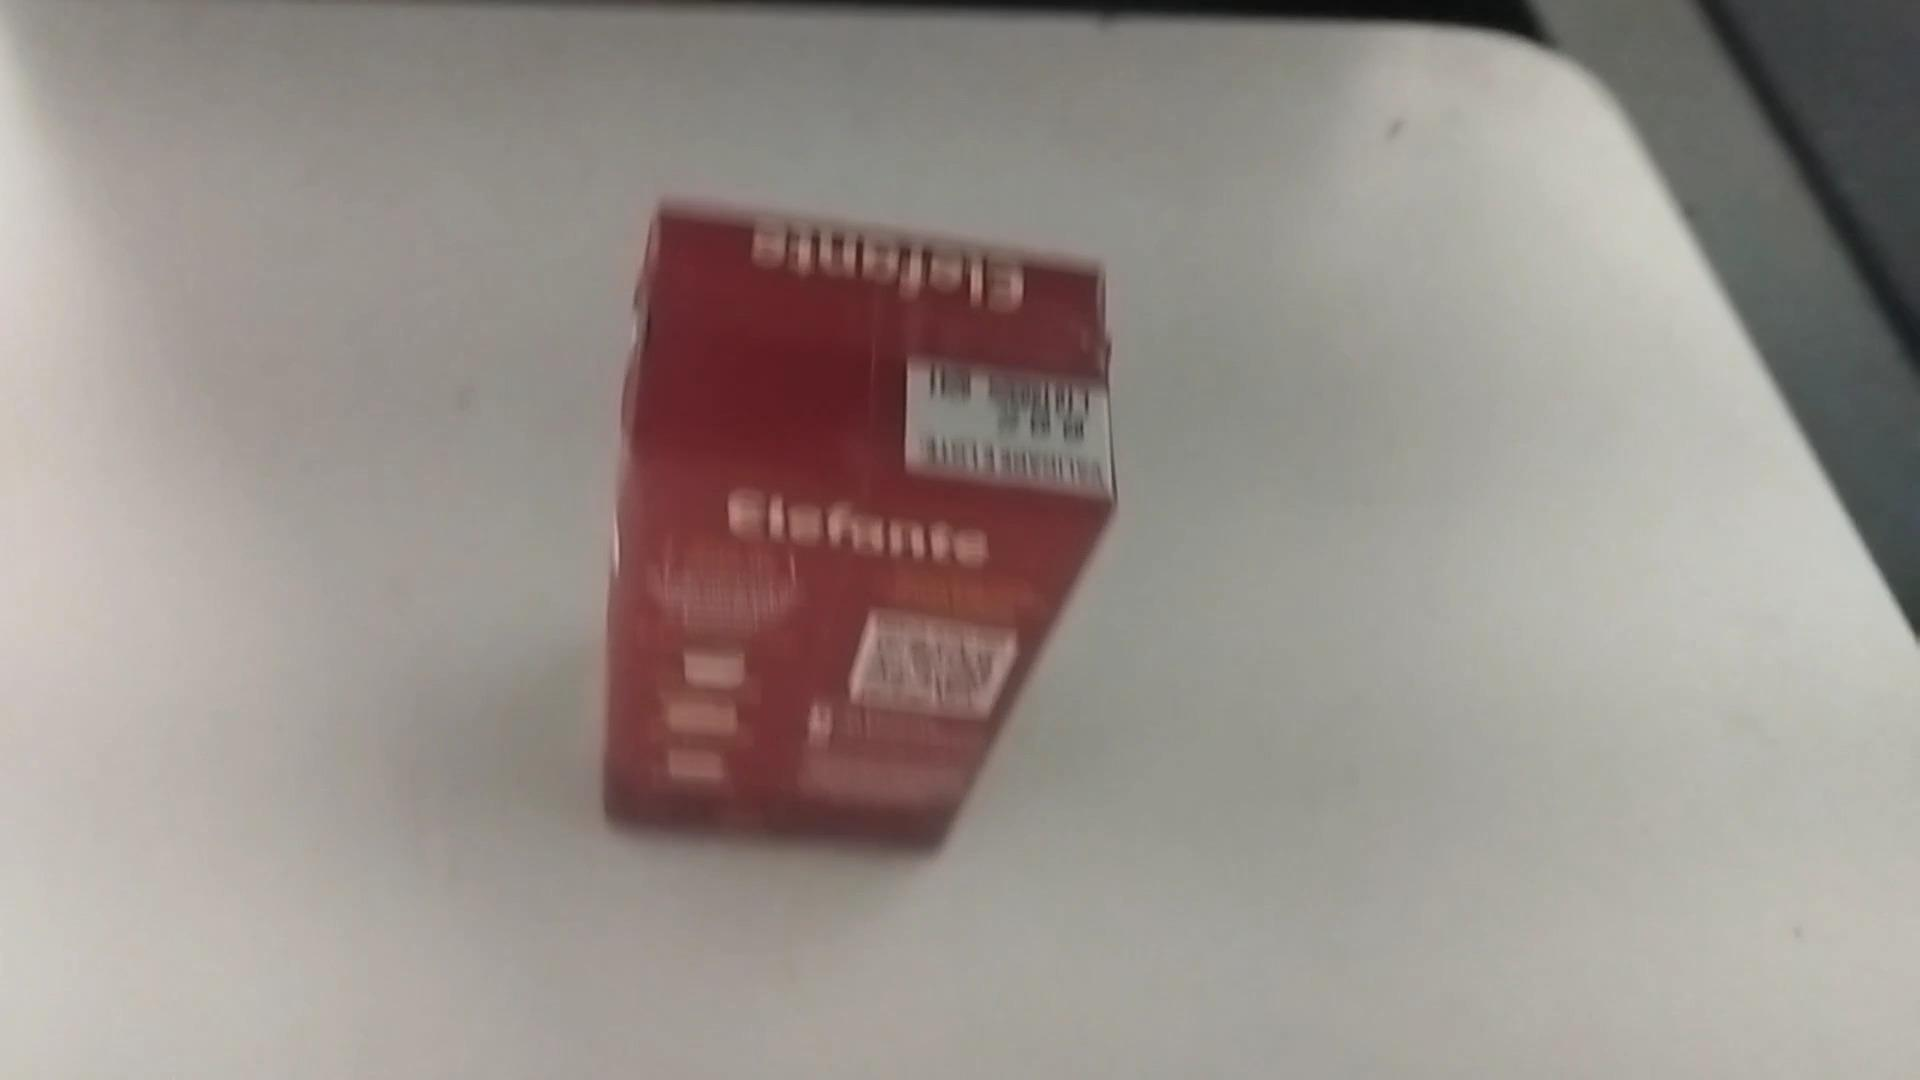tomate: (576, 183, 1150, 872)
